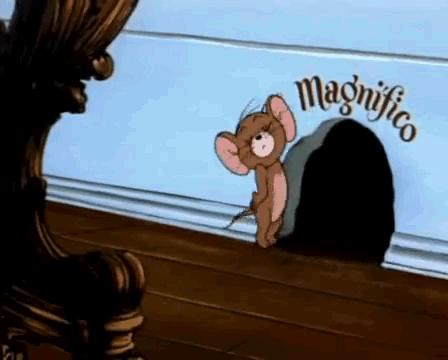jerry: (213, 94, 297, 248)
